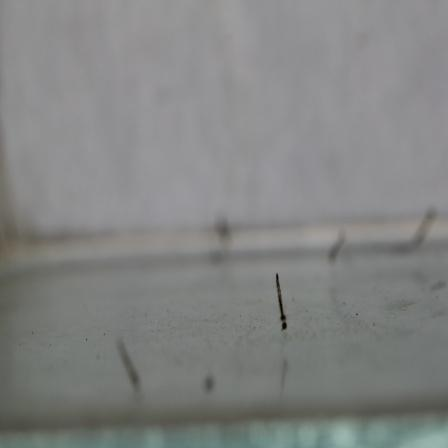Jentik-Nyamuk: (271, 270, 292, 332)
